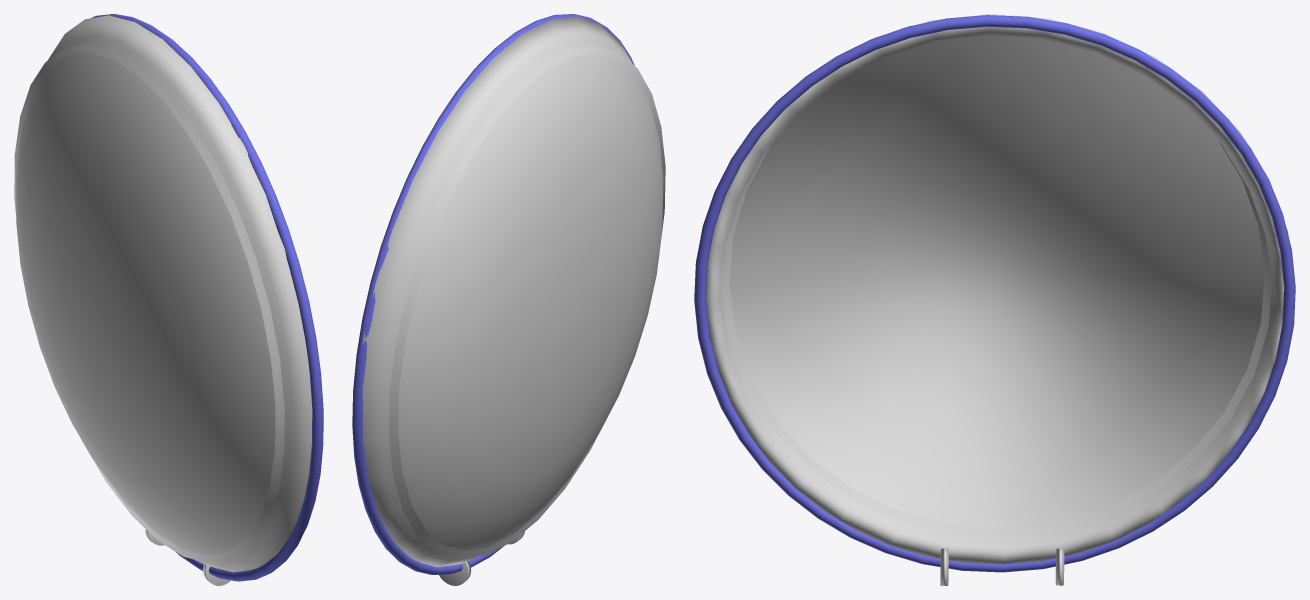
The picture shows the model from 3 angles, left to right: view 1: azimuth 30°, elevation 25°; view 2: azimuth 150°, elevation 25°; view 3: azimuth 270°, elevation 25°; orthographic projection. The views are drawn at different scales.
Visible parts, largest first — view 1: Sphere.001; view 2: Sphere.001, Cylinder.002; view 3: Sphere.001.
Boxes of the visible parts, x1,y1,x2,y2 form: Sphere.001: (14, 14, 323, 581); Sphere.001: (352, 14, 665, 574); Cylinder.002: (439, 561, 471, 585); Sphere.001: (694, 14, 1295, 572).
Bounding box in the file's own units: 0.5633 × 2.47 × 2.43.
